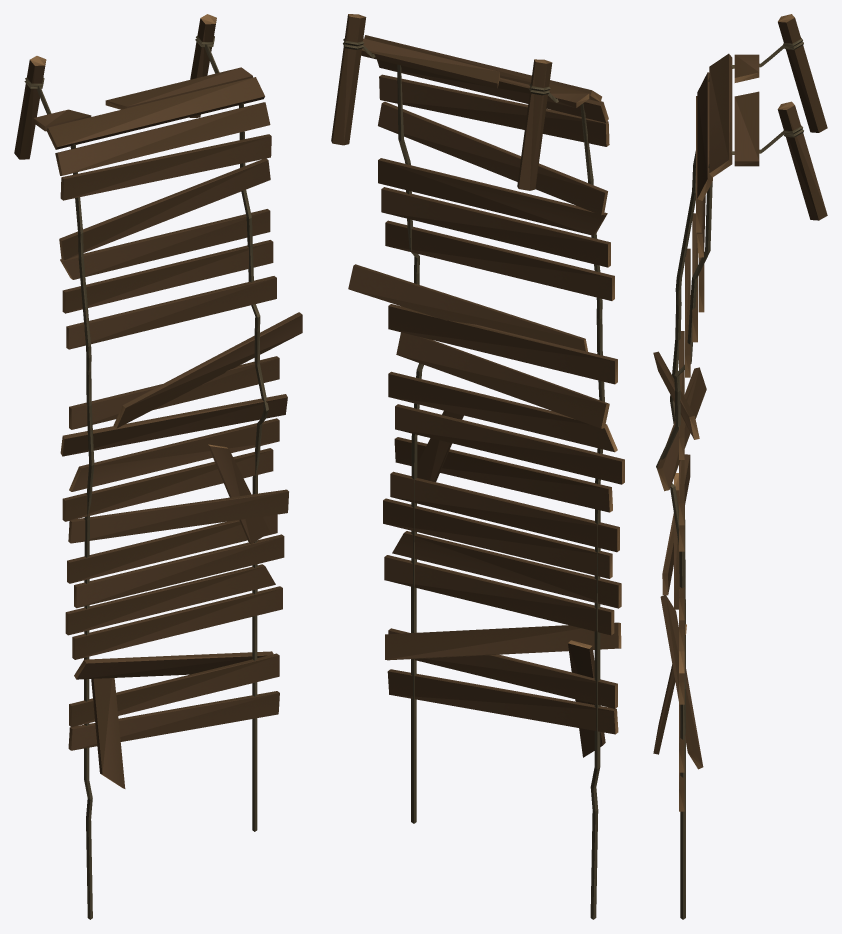
File: Bridge_3A_Lod0.fbx
The picture shows the model from 3 angles, left to right: view 1: azimuth 30°, elevation 25°; view 2: azimuth 150°, elevation 25°; view 3: azimuth 270°, elevation 25°; orthographic projection. The views are drawn at different scales.
Parts seen in each view (by area): view 1: polySurface602; view 2: polySurface602; view 3: polySurface602.
Boxes of the visible parts, left/top/right/bottom form: polySurface602: left=14, top=14, right=302, bottom=919; polySurface602: left=331, top=14, right=624, bottom=919; polySurface602: left=653, top=14, right=827, bottom=919.
Bounding box in the file's own units: 471 × 1515 × 276.
1 material, 1 textured.
